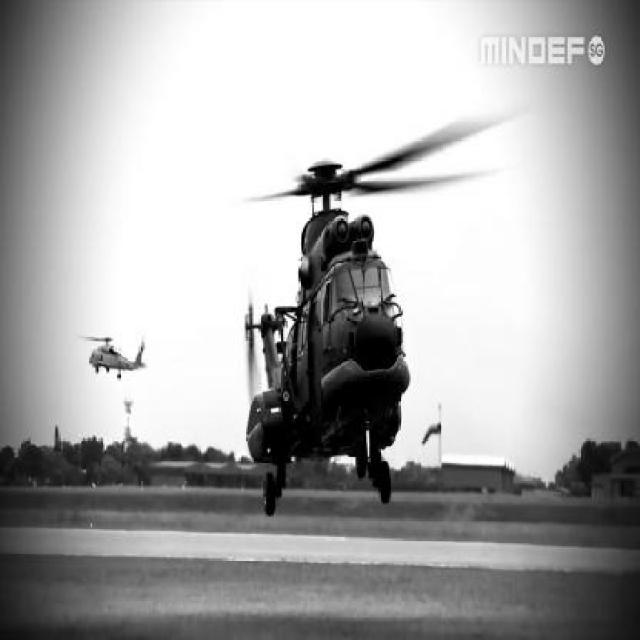Helicopter: (214, 102, 531, 519), (74, 329, 156, 381)
